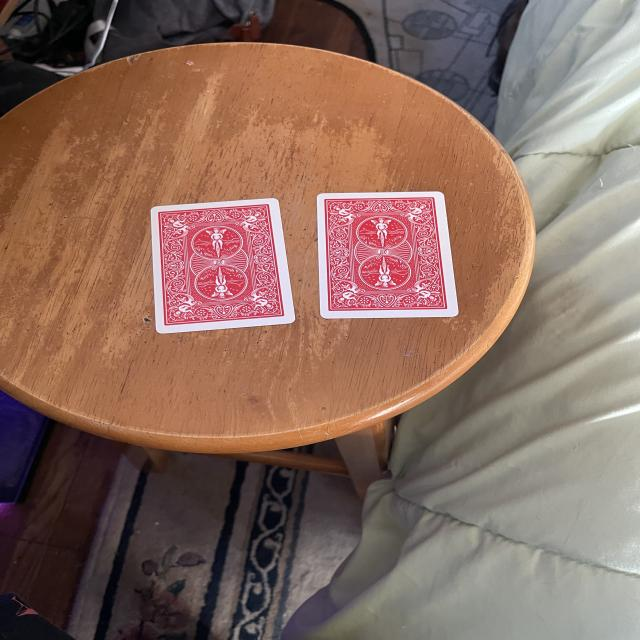Queen of hearts: (150, 199, 287, 332)
